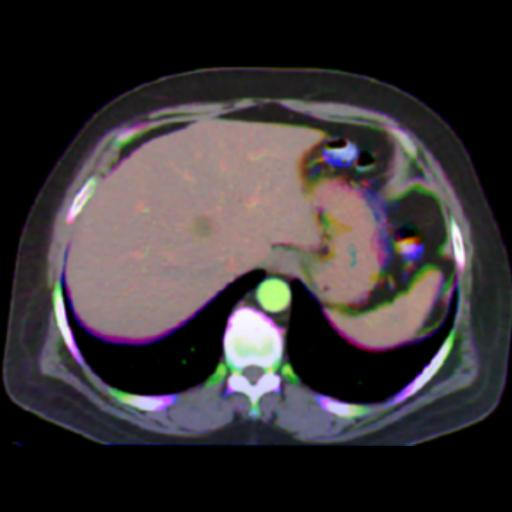Cyst: (193, 214, 213, 236)
